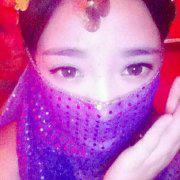OK: (34, 41, 161, 158)
